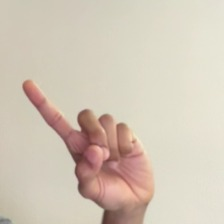Z: (8, 72, 178, 221)
